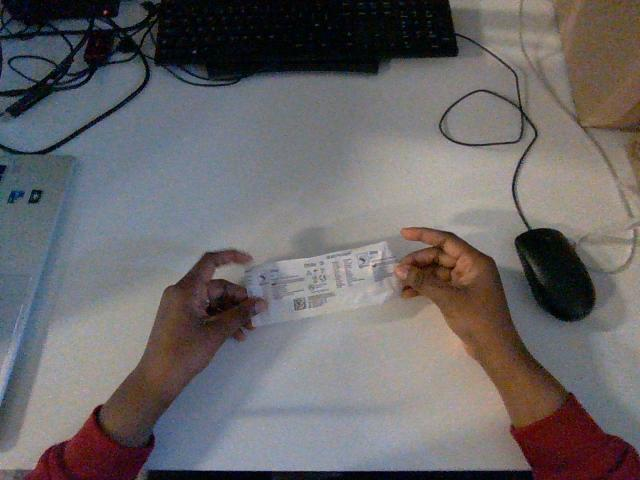syringe: (245, 242, 398, 325)
